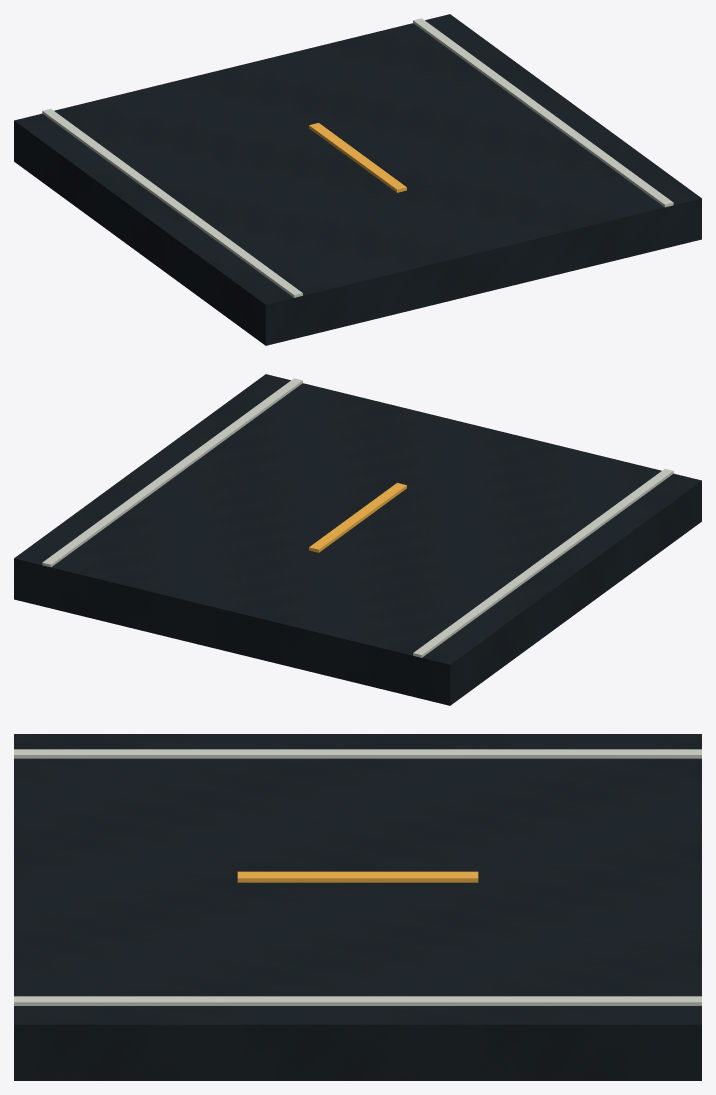
File: Road_Straight_2m.glb
3 renders of one model, top to bottom at view 1: azimuth 30°, elevation 25°; view 2: azimuth 150°, elevation 25°; view 3: azimuth 270°, elevation 25°, orthographic. The views are drawn at different scales.
Visible parts, largest first — view 1: Road_Straight_2m; view 2: Road_Straight_2m; view 3: Road_Straight_2m.
Boxes of the visible parts, x1,y1,x2,y2 form: Road_Straight_2m: [14, 14, 701, 345]; Road_Straight_2m: [14, 374, 701, 705]; Road_Straight_2m: [14, 734, 701, 1080].
Bounding box in the file's own units: 2 × 0.194 × 2.
3 materials, 1 textured.
